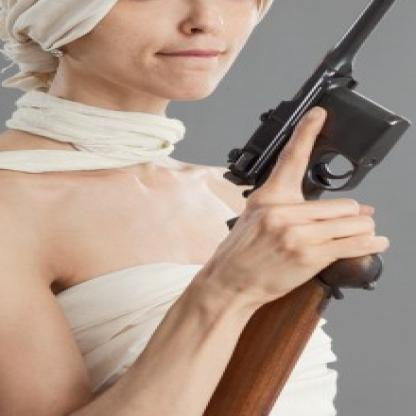gun: (228, 0, 415, 288)
